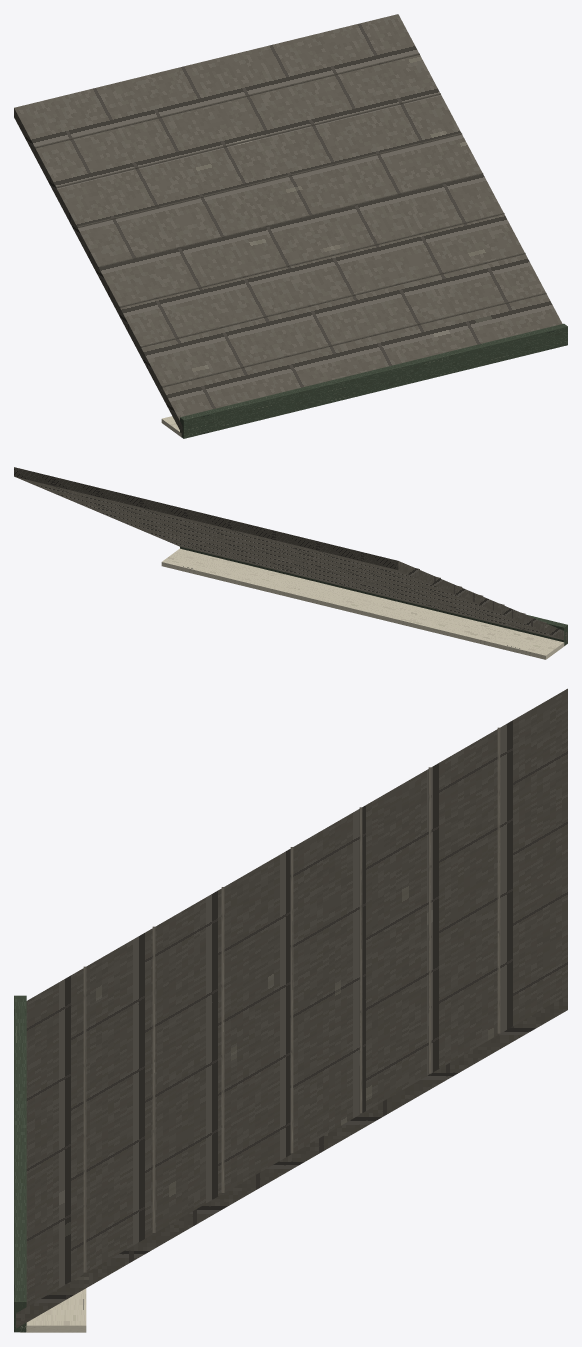
The model's file is house_01_roof_slope.glb.
3 renders of one model, top to bottom at view 1: azimuth 30°, elevation 25°; view 2: azimuth 150°, elevation 25°; view 3: azimuth 270°, elevation 25°, orthographic. The views are drawn at different scales.
Parts seen in each view (by area): view 1: house_01_roof_slope; view 2: house_01_roof_slope; view 3: house_01_roof_slope.
Part boxes in pixels (x1,y1,x2,y2): house_01_roof_slope: (14, 14, 567, 438); house_01_roof_slope: (14, 467, 567, 659); house_01_roof_slope: (14, 688, 567, 1332).
Size of the model in its own units: 3.4 by 1.75 by 2.6.
3 materials, 3 textured.
